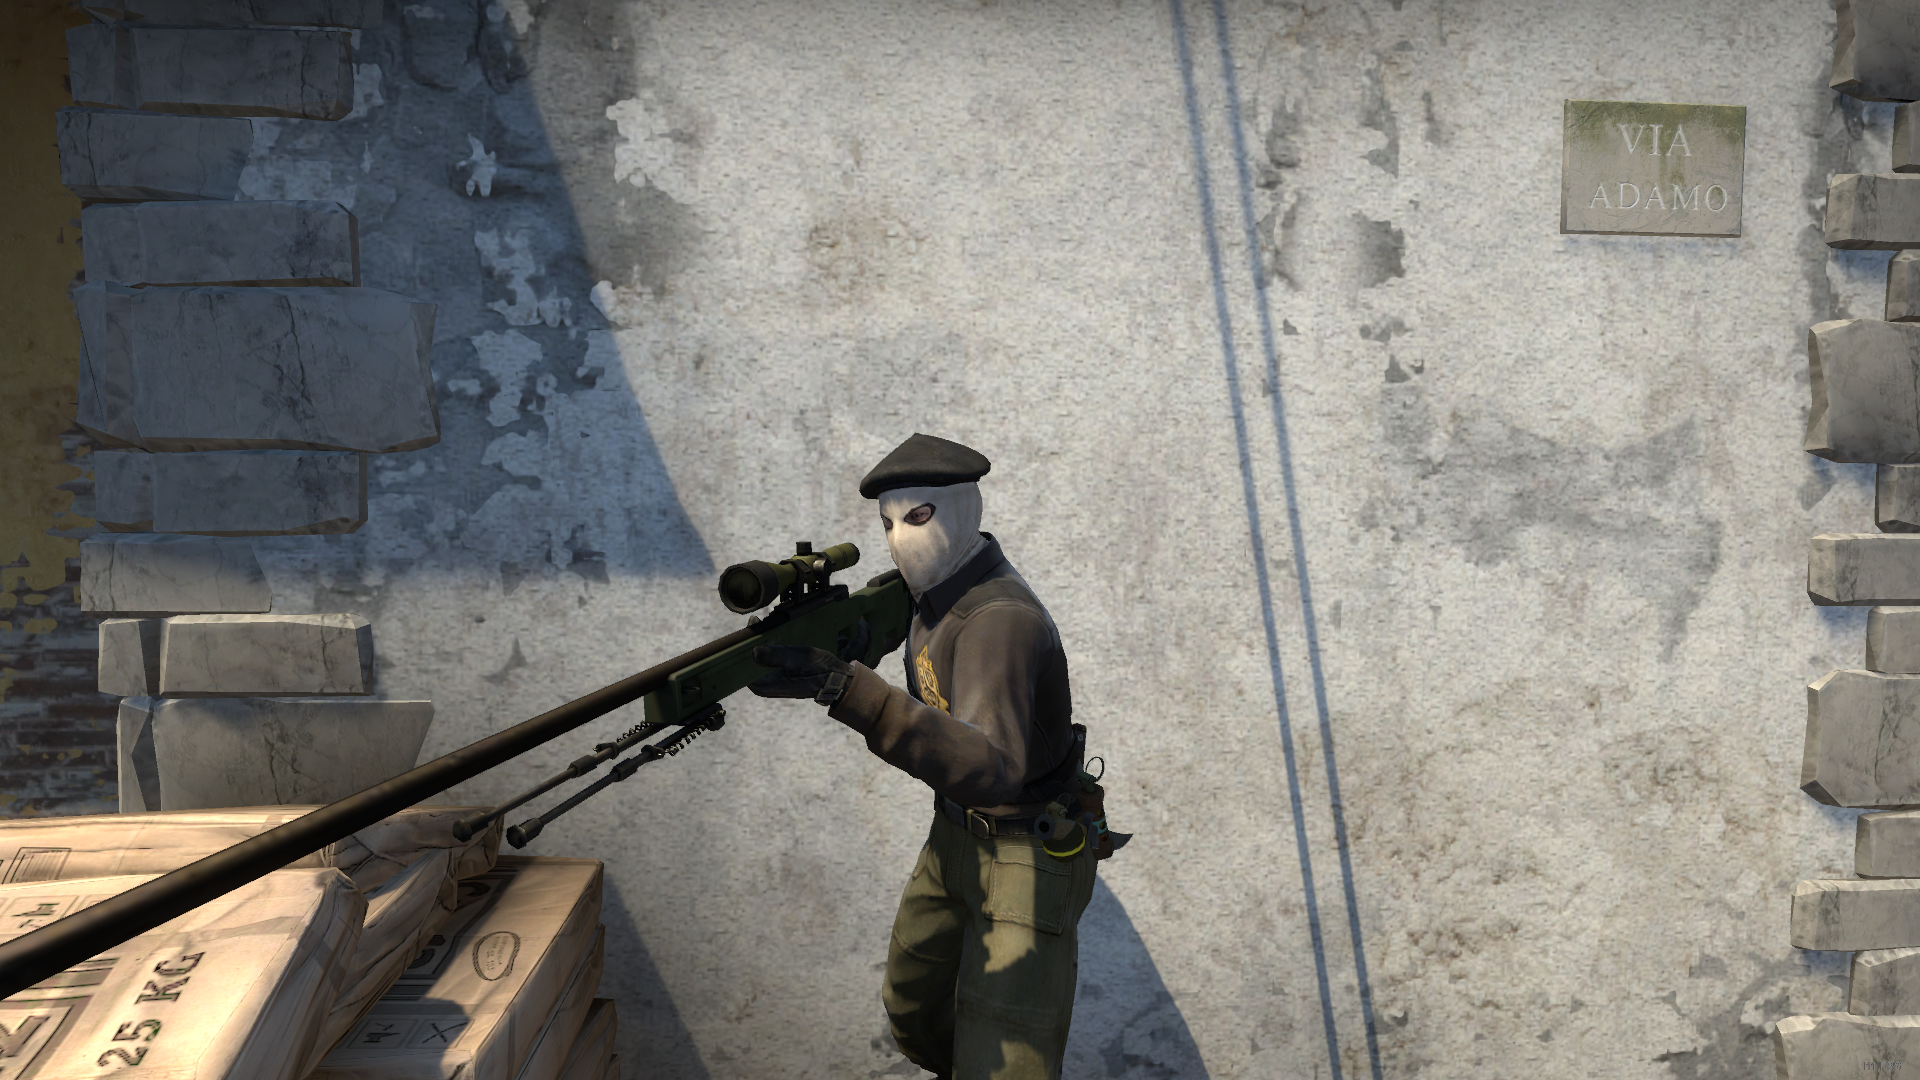t: (752, 433, 1100, 1080)
